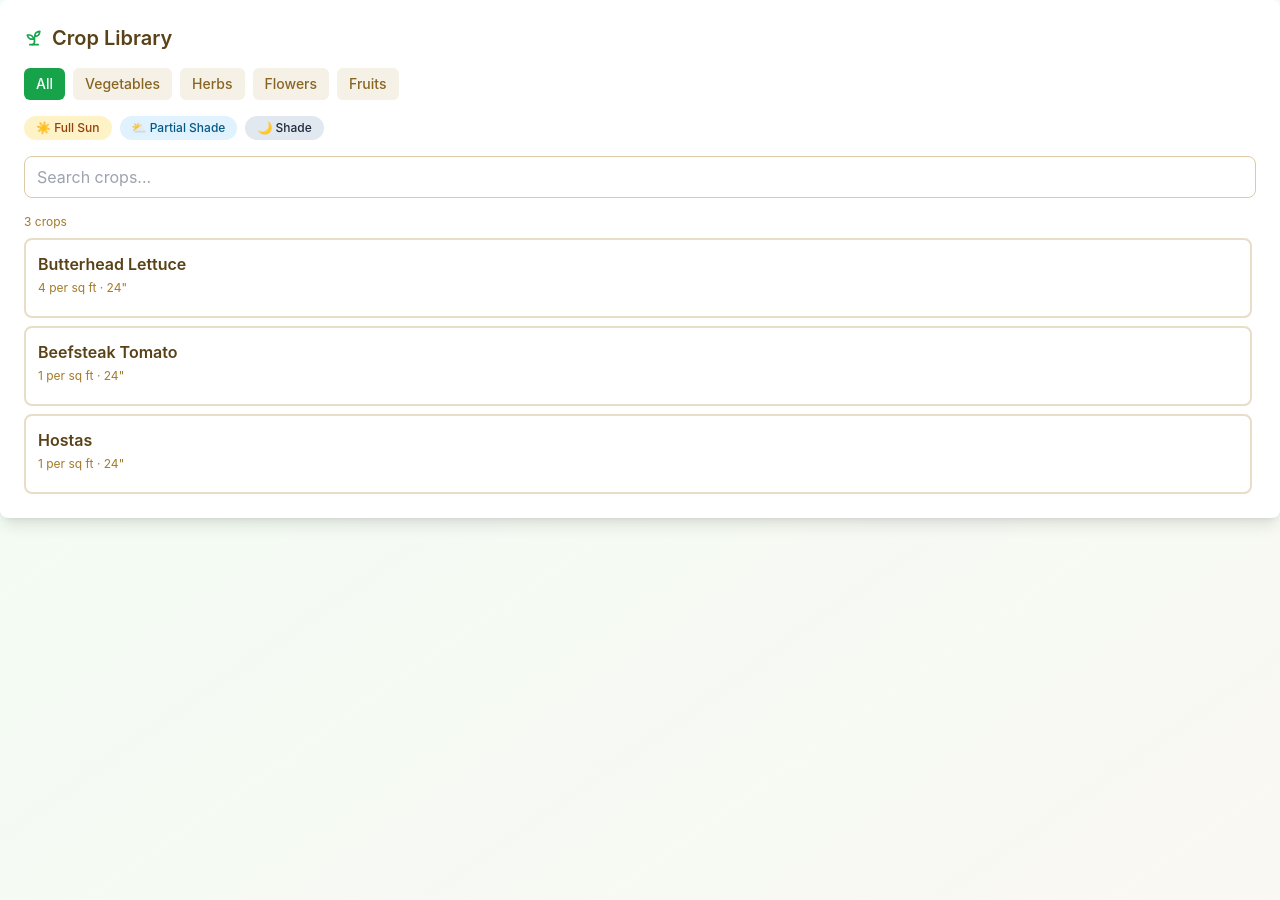
CropLibrary › Sun Filter Pills (TODO-028) › shows only full sun crops when "Full Sun" pill is clicked
This screenshot has width=1280, height=900.
Step 1. Click the button "☀️ Full Sun" → (68,128), box [24,116,112,140]
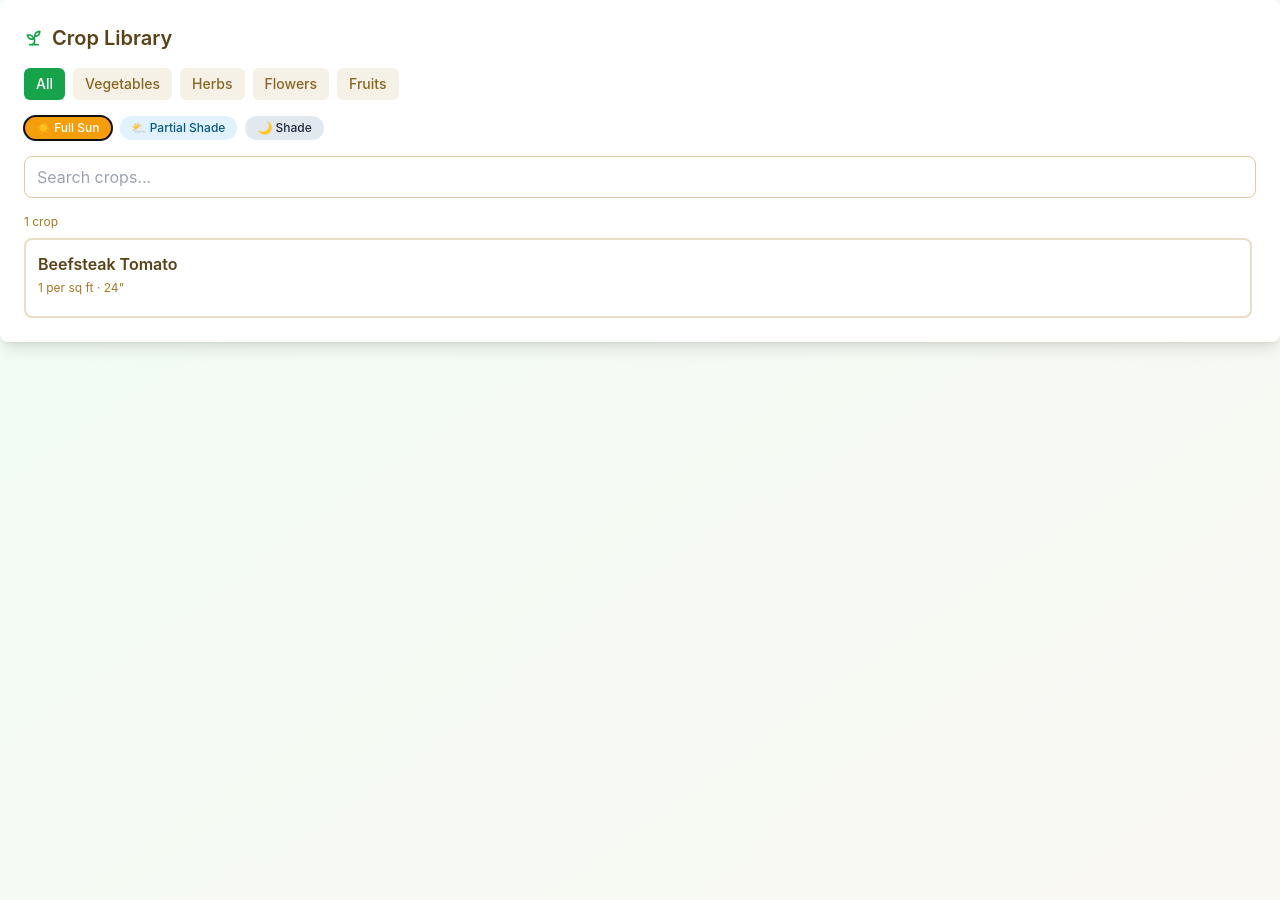
Expected: the text "Beefsteak Tomato" is shown, [38,254,178,274]
Expected: the button "Butterhead Lettuce" is gone
Expected: the button "Hostas" is gone
